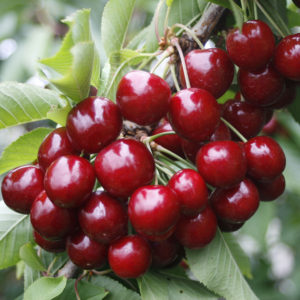Cherry: (115, 68, 172, 126), (97, 138, 156, 194), (66, 96, 124, 151), (128, 184, 183, 242), (180, 47, 238, 99), (226, 18, 279, 74), (78, 192, 131, 247), (46, 154, 96, 210), (195, 138, 249, 189), (168, 88, 220, 139), (0, 162, 47, 218), (236, 62, 288, 108), (210, 180, 259, 225), (244, 132, 288, 182), (30, 193, 77, 239), (220, 96, 267, 138), (110, 234, 154, 278), (37, 128, 84, 168), (170, 168, 208, 217), (151, 119, 197, 159), (66, 232, 110, 271), (179, 209, 218, 250), (273, 32, 300, 81), (253, 171, 288, 204), (151, 238, 183, 268), (31, 231, 66, 256)
